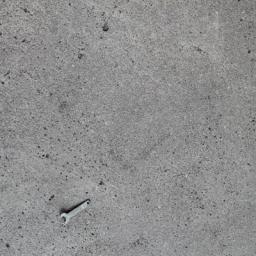FOD: (57, 197, 95, 228)
